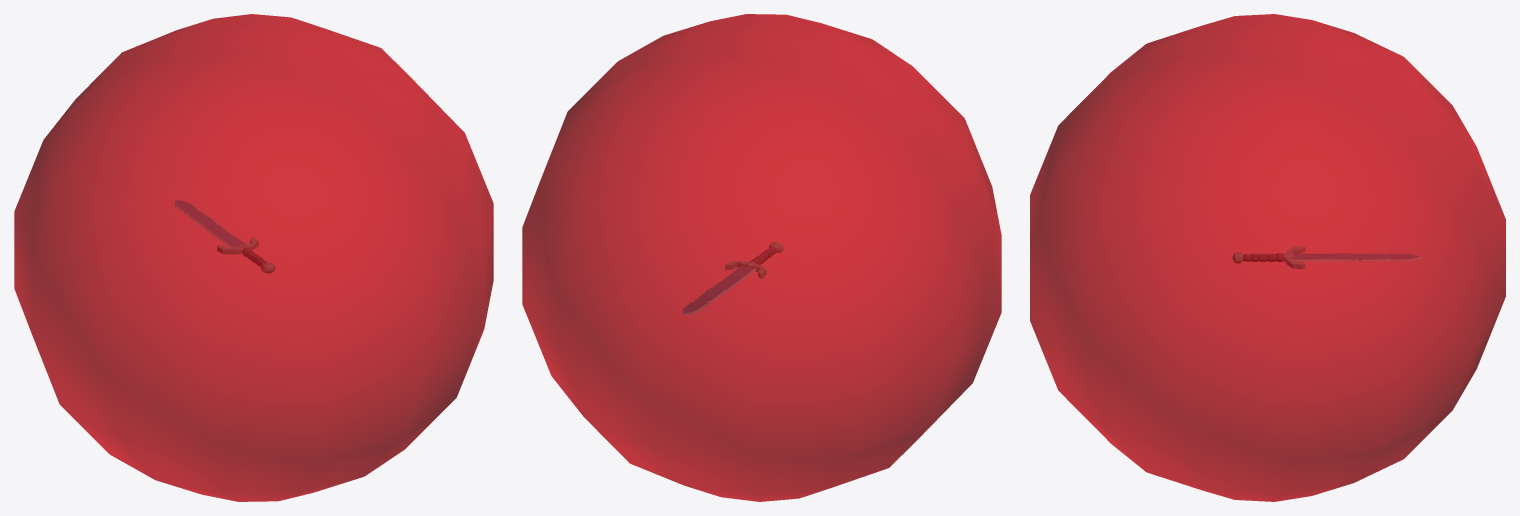
Rendered from PvE Sword.glb.
The picture shows the model from 3 angles, left to right: view 1: azimuth 30°, elevation 25°; view 2: azimuth 150°, elevation 25°; view 3: azimuth 270°, elevation 25°; orthographic projection.
Parts seen in each view (by area): view 1: Sphere, Sword_Mesh; view 2: Sphere, Sword_Mesh; view 3: Sphere, Sword_Mesh.
Boxes of the visible parts, box(x1,y1,x2,y2) form: Sphere: box(14, 14, 493, 501); Sword_Mesh: box(175, 200, 275, 273); Sphere: box(522, 14, 1001, 501); Sword_Mesh: box(683, 242, 783, 314); Sphere: box(1030, 14, 1505, 501); Sword_Mesh: box(1233, 246, 1422, 268).
Size of what is drawn, in the model's own units: 1.96 by 2 by 1.94.
